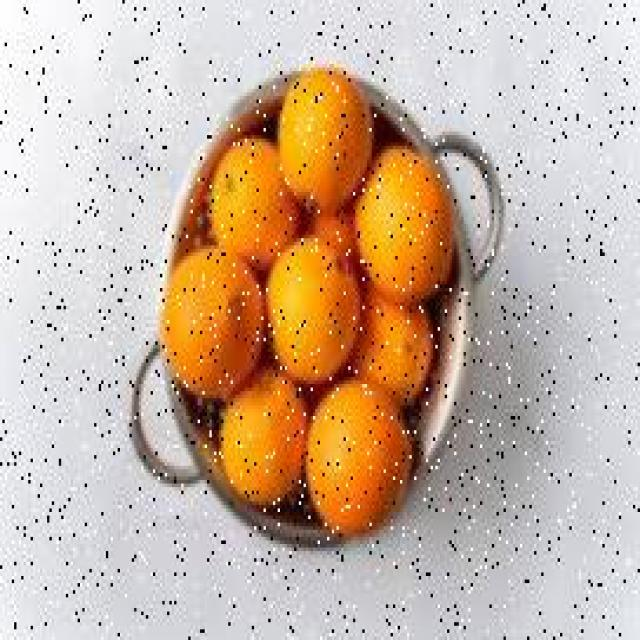orange: (304, 378, 412, 534), (354, 146, 456, 305), (164, 245, 267, 398), (265, 234, 363, 384), (276, 66, 373, 210), (220, 372, 311, 508), (210, 139, 302, 268), (357, 290, 435, 402)
